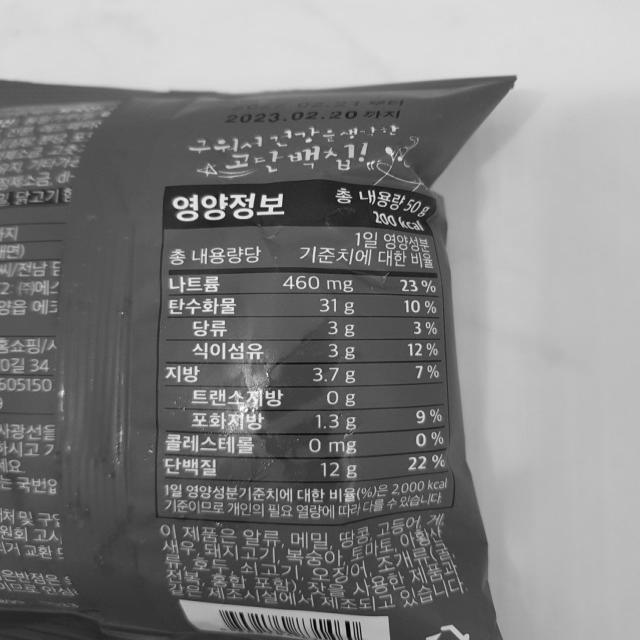Nutrition Label: (140, 165, 476, 534)
